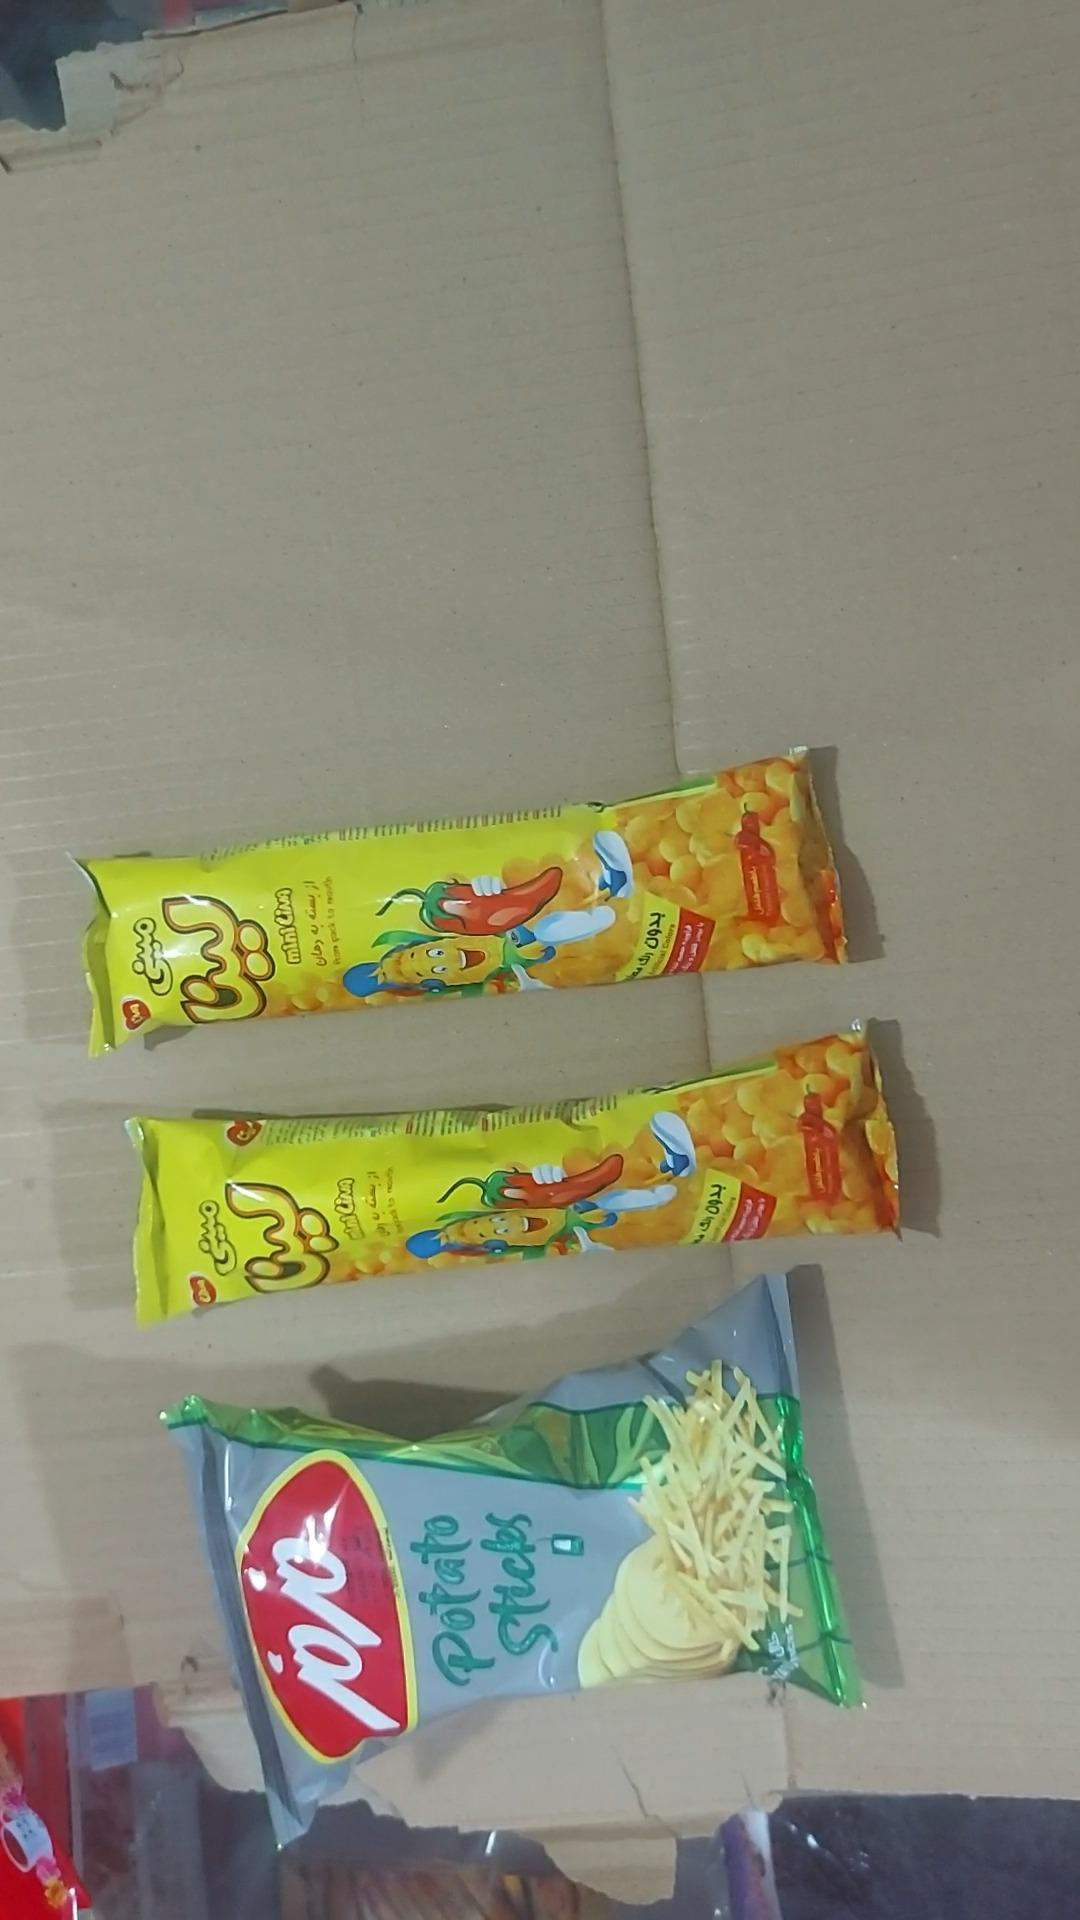Maz Maz potato sticks: (165, 1275, 858, 1846)
Mini Lina: (79, 752, 847, 1054), (128, 1030, 899, 1323)
